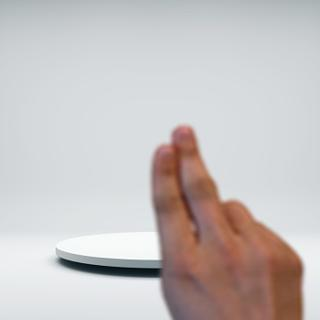DHAVE: (135, 120, 311, 320)
